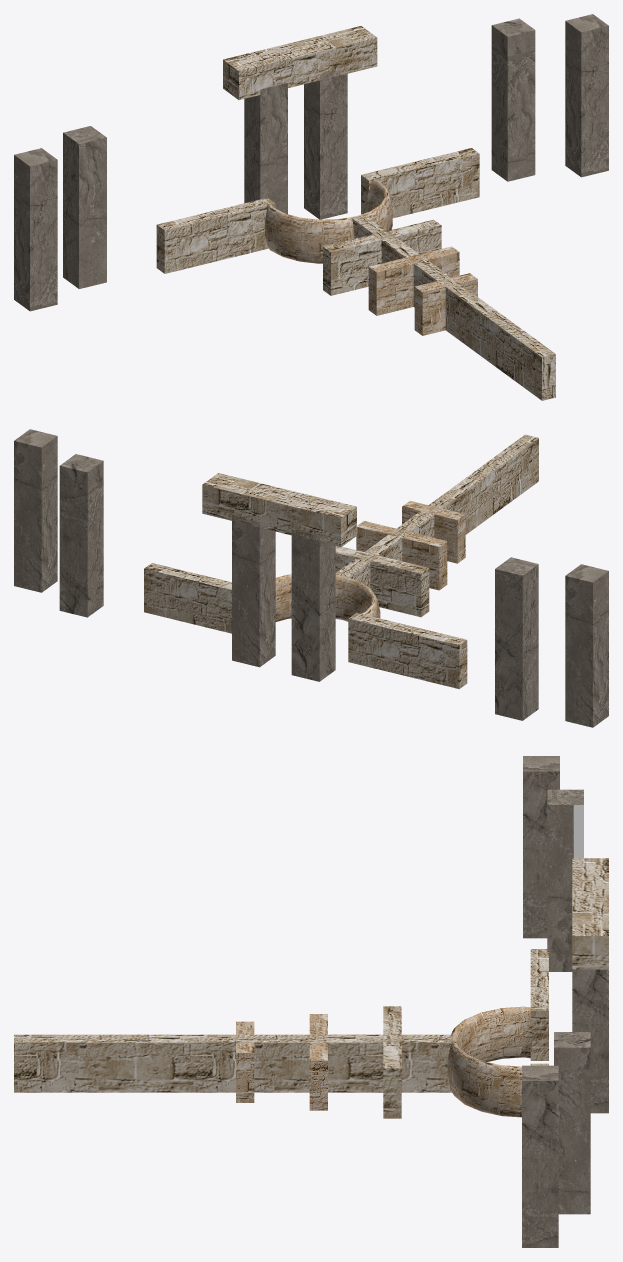
File: stoneStuff.fbx
The picture shows the model from 3 angles, top to bottom: view 1: azimuth 30°, elevation 25°; view 2: azimuth 150°, elevation 25°; view 3: azimuth 270°, elevation 25°; orthographic projection. The views are drawn at different scales.
Parts seen in each view (by area): view 1: trunk, standing_stone10, standing_stone1, standing_stone7, standing_stone11, standing_stone12, standing_stone9, wall6, wall2, standing_stone8, entrance, wall7 (+2 smaller); view 2: standing_stone10, trunk, standing_stone7, standing_stone1, standing_stone11, standing_stone12, standing_stone8, standing_stone9, wall6, wall2, wall7, wall8 (+2 smaller); view 3: trunk, entrance, standing_stone11, standing_stone10, standing_stone7, standing_stone1, standing_stone12, standing_stone9, wall7, wall6, wall8, wall9.
Boxes of the visible parts, x1,y1,x2,y2 form: trunk: [352, 214, 555, 400]; standing_stone10: [491, 18, 535, 181]; standing_stone1: [14, 148, 57, 311]; standing_stone7: [63, 126, 106, 288]; standing_stone11: [565, 14, 608, 177]; standing_stone12: [223, 26, 377, 99]; standing_stone9: [304, 68, 347, 219]; wall6: [156, 197, 275, 273]; wall2: [361, 148, 479, 218]; standing_stone8: [244, 83, 287, 213]; entrance: [265, 178, 392, 263]; wall7: [323, 219, 441, 295]; standing_stone10: [59, 454, 103, 617]; trunk: [335, 434, 538, 587]; standing_stone7: [495, 557, 538, 720]; standing_stone1: [565, 564, 608, 727]; standing_stone11: [14, 429, 57, 592]; standing_stone12: [202, 473, 356, 547]; standing_stone8: [291, 530, 335, 681]; standing_stone9: [232, 515, 275, 667]; wall6: [348, 612, 467, 689]; wall2: [144, 563, 231, 633]; wall7: [335, 546, 429, 617]; wall8: [356, 521, 447, 590]; trunk: [14, 1034, 453, 1092]; entrance: [447, 1006, 533, 1117]; standing_stone11: [522, 1065, 558, 1247]; standing_stone10: [554, 1032, 590, 1214]; standing_stone7: [547, 789, 583, 971]; standing_stone1: [523, 756, 559, 938]; standing_stone12: [572, 858, 608, 969]; standing_stone9: [572, 969, 608, 1113]; wall7: [383, 1006, 401, 1118]; wall6: [530, 949, 548, 1060]; wall8: [309, 1014, 327, 1110]; wall9: [236, 1021, 254, 1102].
Size of the model in its own units: 20.89 by 5.81 by 16.16.
